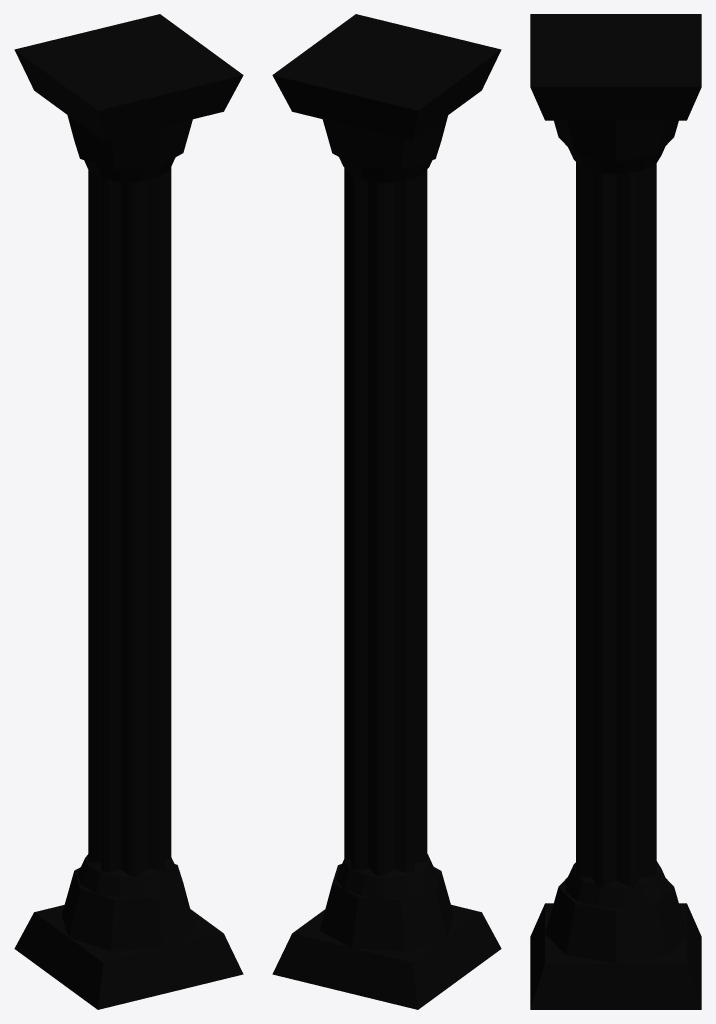
File: Col.glb
3 views of the same model, side by side, from view 1: azimuth 30°, elevation 25°; view 2: azimuth 150°, elevation 25°; view 3: azimuth 270°, elevation 25° (orthographic). The views are drawn at different scales.
Parts seen in each view (by area): view 1: Col; view 2: Col; view 3: Col.
Boxes of the visible parts, x1,y1,x2,y2 form: Col: [14, 14, 243, 1009]; Col: [272, 14, 501, 1009]; Col: [530, 14, 701, 1009].
Size of the model in its own units: 153 by 903 by 152.
1 material, 1 textured.
